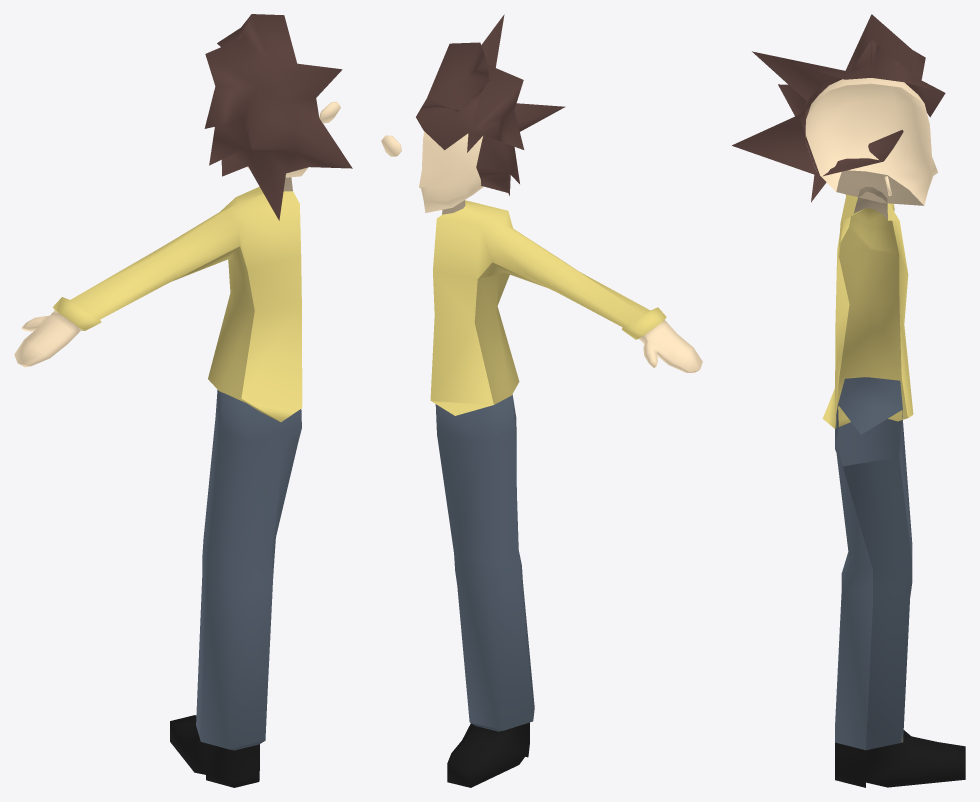
File: guy-mesh.glb
The picture shows the model from 3 angles, left to right: view 1: azimuth 30°, elevation 25°; view 2: azimuth 150°, elevation 25°; view 3: azimuth 270°, elevation 25°; orthographic projection. The views are drawn at different scales.
Parts seen in each view (by area): view 1: Torso, Head.001; view 2: Torso, Head.001, Head; view 3: Torso, Head, Head.001.
Boxes of the visible parts, x1,y1,x2,y2 form: Torso: (14, 177, 302, 787); Head.001: (204, 14, 352, 220); Torso: (430, 200, 702, 787); Head.001: (416, 14, 565, 195); Head: (419, 131, 483, 212); Torso: (822, 186, 965, 787); Head: (805, 78, 937, 205); Head.001: (732, 14, 945, 202).
Size of the model in its own units: 5.1 by 11.06 by 3.05.
Materials: 1 (1 with a texture image).
